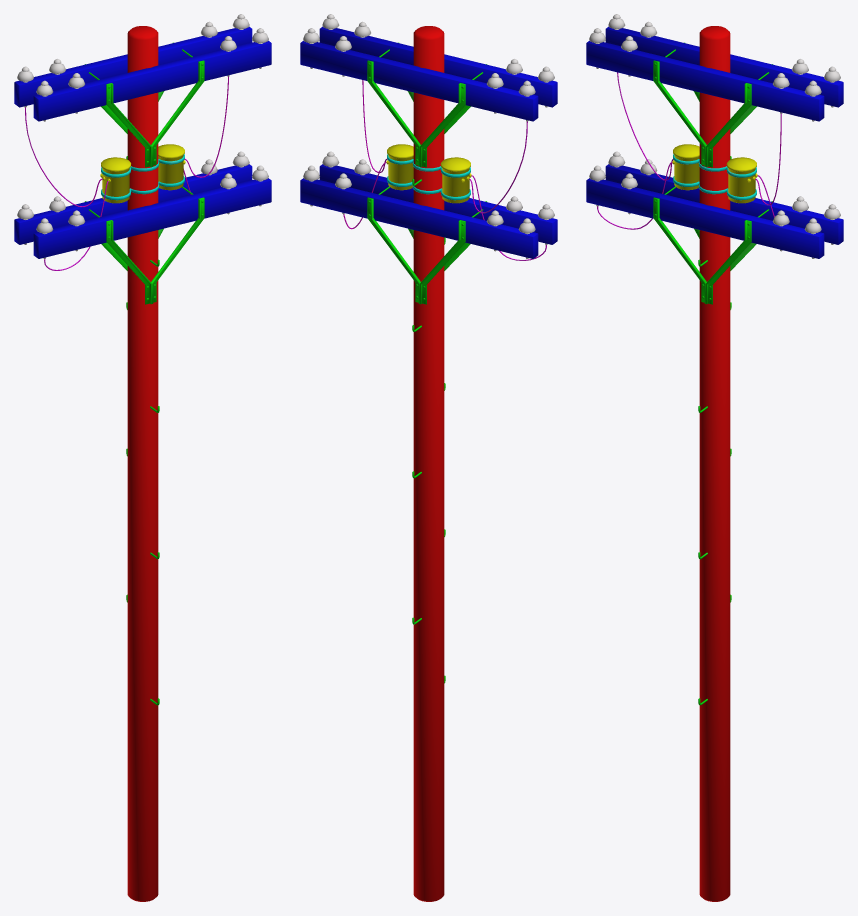
File: SM_Electric_Pole_01.FBX
3 renders of one model, left to right at view 1: azimuth 30°, elevation 25°; view 2: azimuth 150°, elevation 25°; view 3: azimuth 330°, elevation 25°, orthographic.
Parts seen in each view (by area): view 1: SM_Electric_Pole_01_LOD0; view 2: SM_Electric_Pole_01_LOD0; view 3: SM_Electric_Pole_01_LOD0.
Part boxes in pixels (x1,y1,x2,y2): SM_Electric_Pole_01_LOD0: [14, 14, 271, 901]; SM_Electric_Pole_01_LOD0: [300, 14, 557, 901]; SM_Electric_Pole_01_LOD0: [586, 14, 843, 901].
Size of what is drawn, in the model's own units: 226 by 53.99 by 800.
